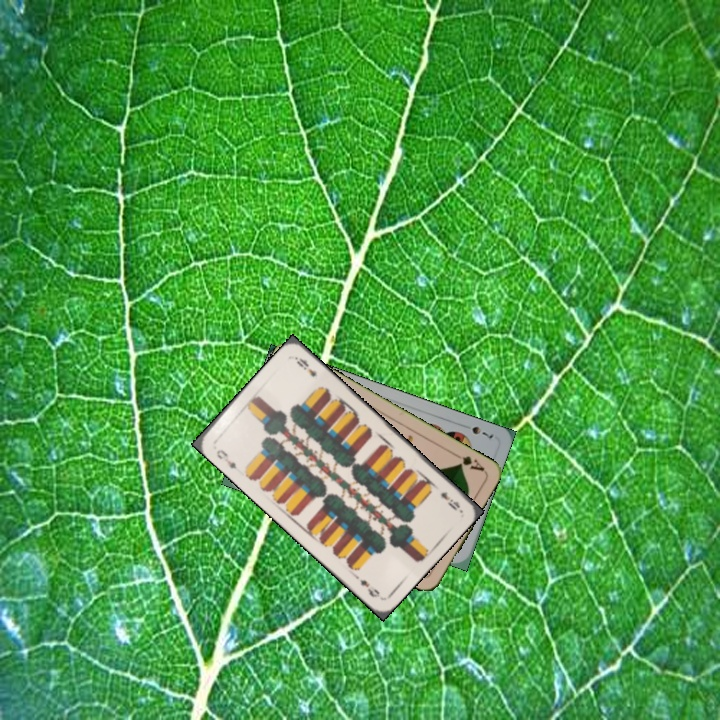E9: (212, 445, 239, 472), (436, 487, 463, 513)
GA: (449, 448, 487, 474)
S7: (468, 422, 496, 441)
